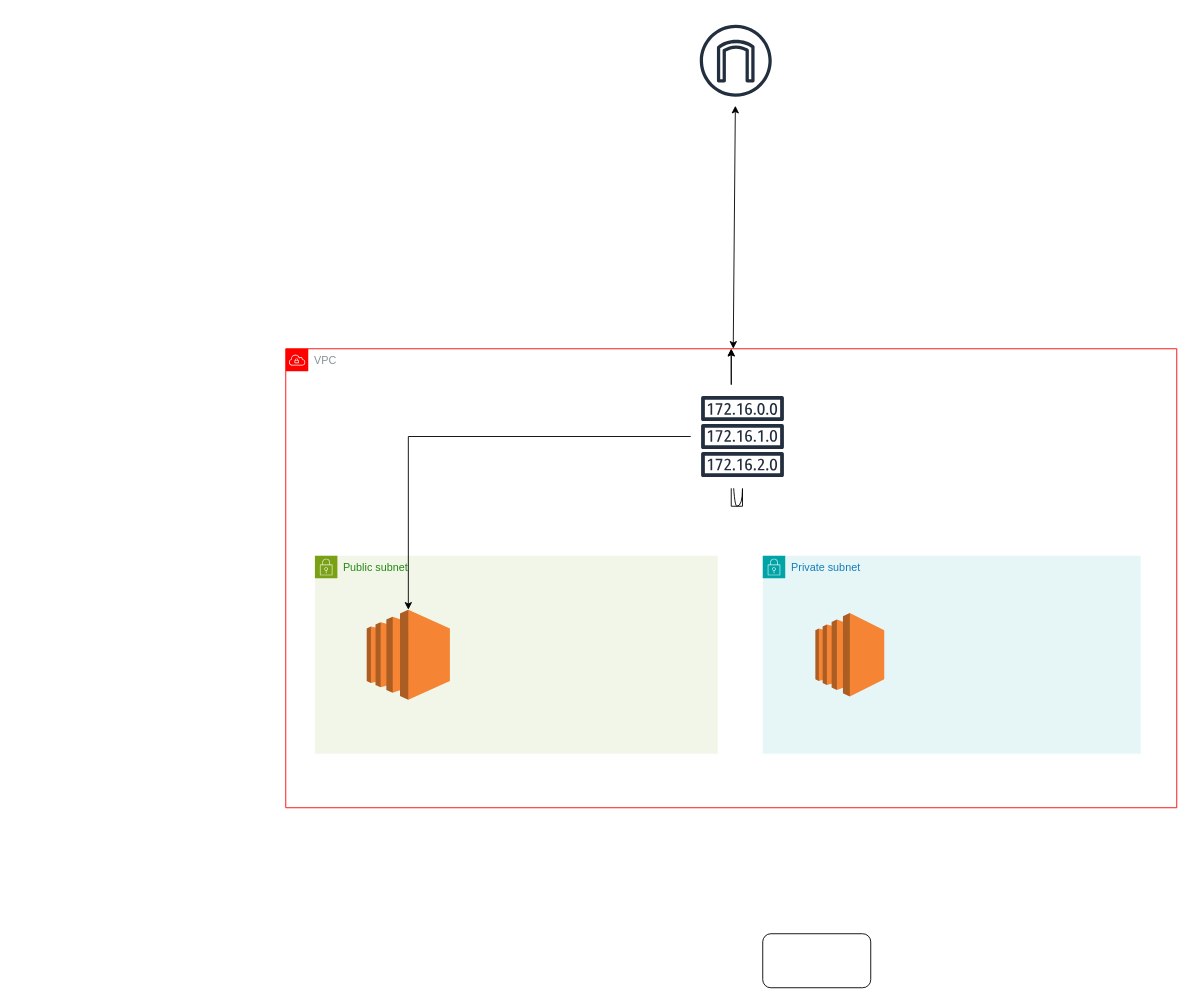
Some shapes in this 1193 by 1004 pixel diagram are drawn without their labels. Here are the shapes that lost their labels. From the top down, the centre of each, then its label:
point 735,60: Internet gateway
point 742,436: Route table
